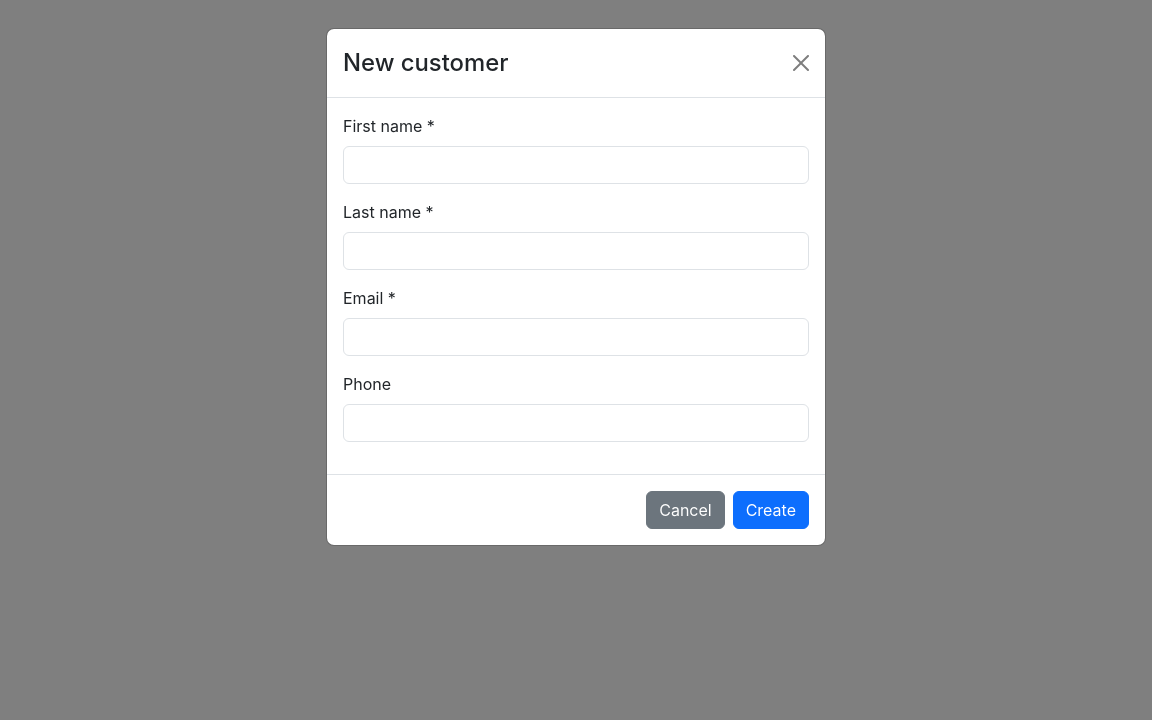
Test: CustomerFormModal › shows a validation error when email is empty
Step 1. Type "Jane" into the field with test id "input-customer-first-name" → x=576, y=165, box top-left (343, 146), bottom-right (809, 184)
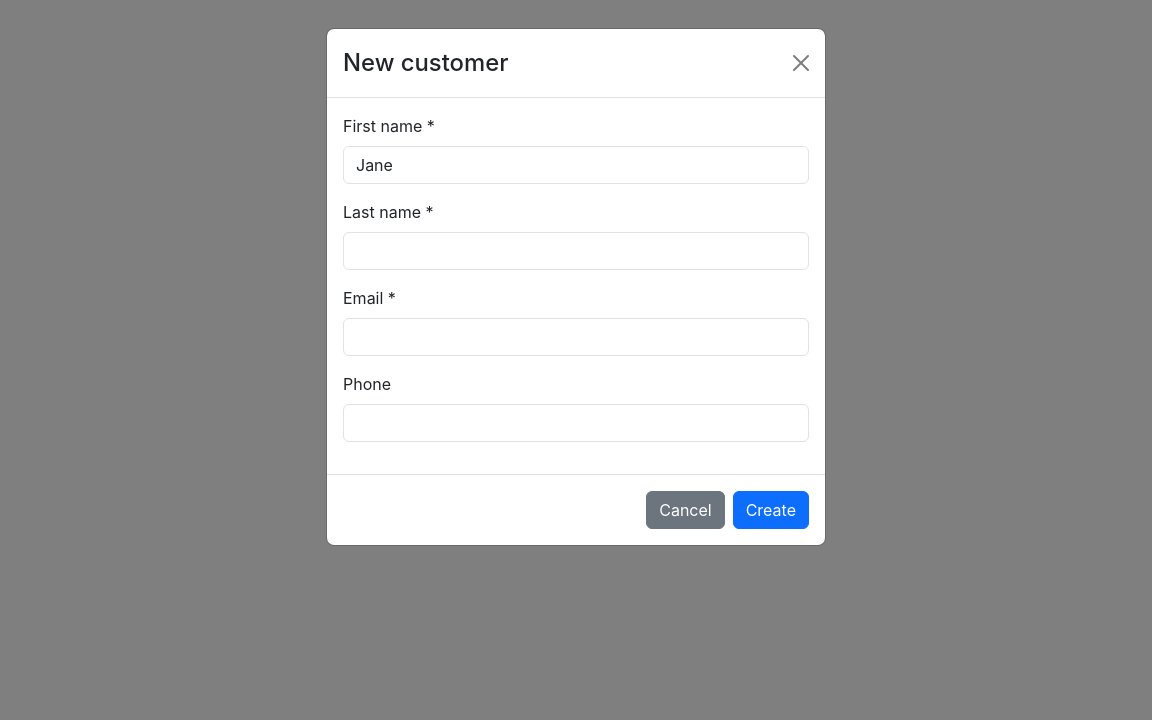
Step 2. Type "Doe" into the field with test id "input-customer-last-name" → x=576, y=251, box top-left (343, 232), bottom-right (809, 270)
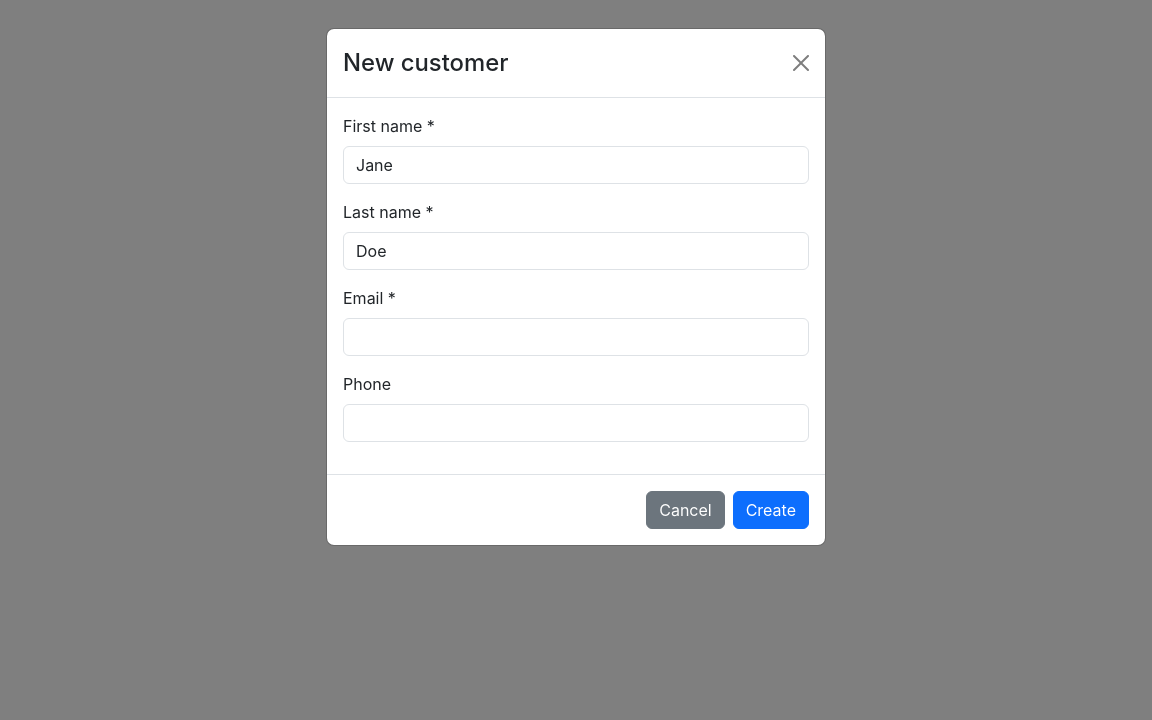
Step 3. Click the button with test id "btn-modal-save" → x=771, y=510, box top-left (733, 491), bottom-right (809, 529)
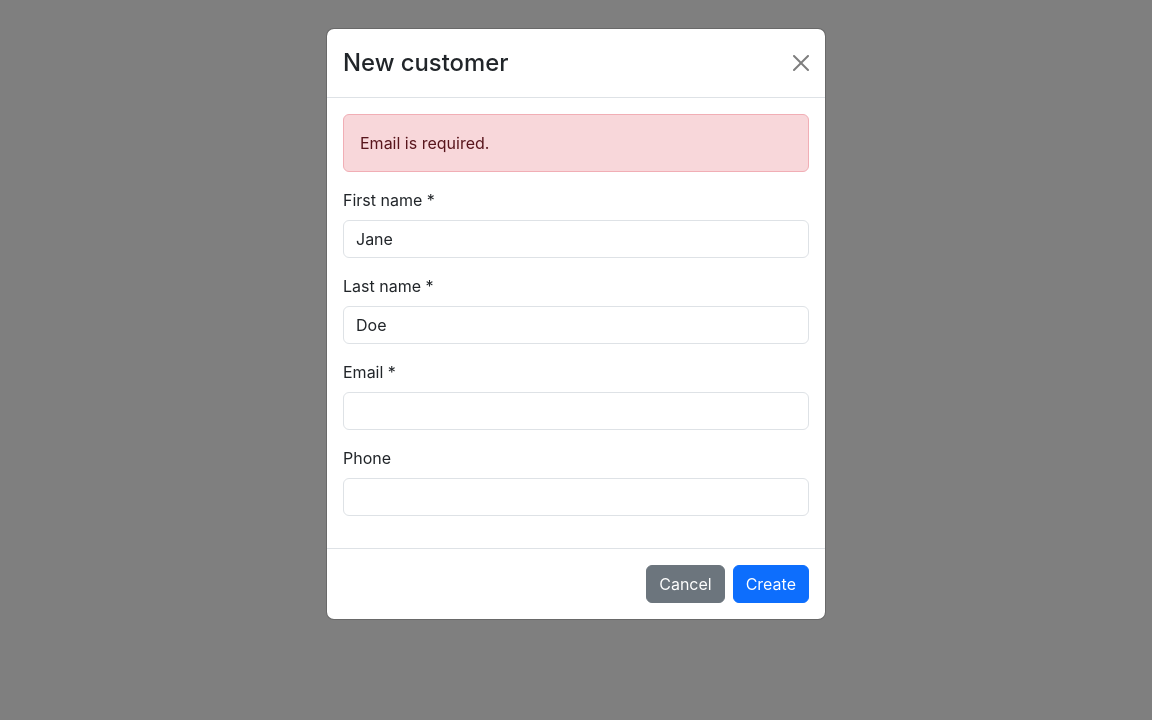
Check: the text "Email is required." is shown, box top-left (343, 114), bottom-right (809, 172)
